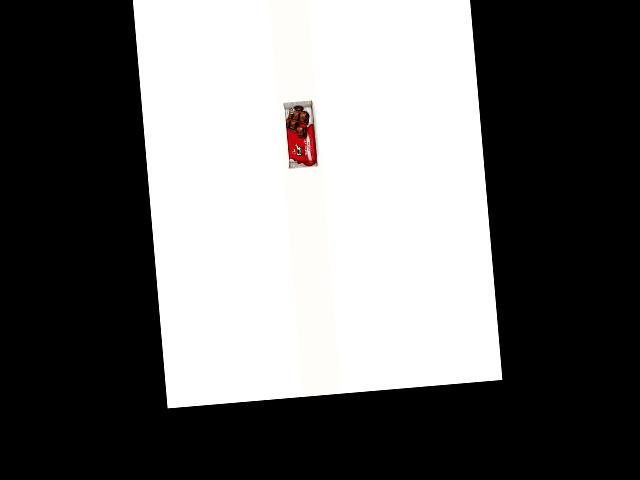chocolate: (281, 98, 323, 170)
